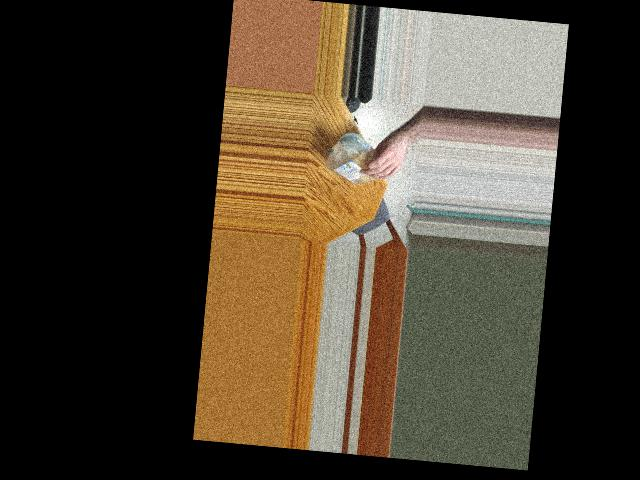cheese: (322, 131, 392, 190)
